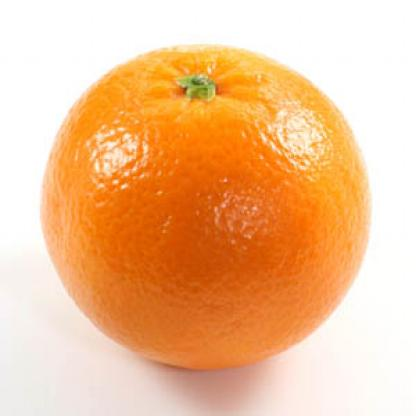orange: (30, 45, 376, 375)
